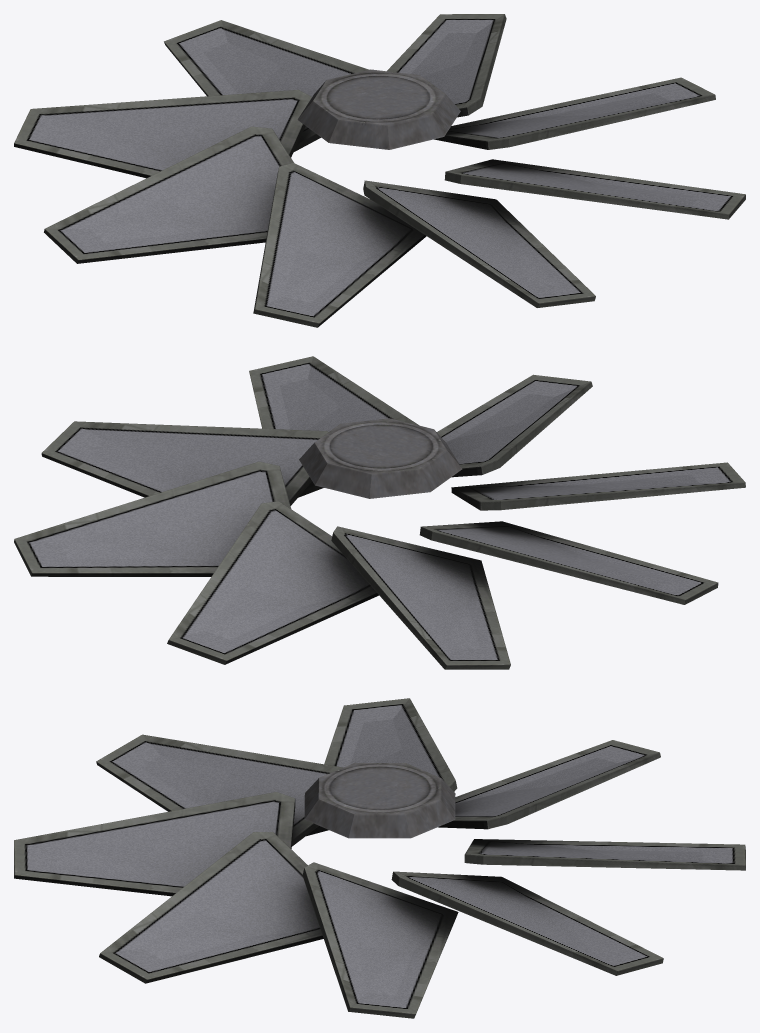
Rendered from OBJ_Fan_A.FBX.
3 views of the same model, one above another, from view 1: azimuth 30°, elevation 25°; view 2: azimuth 150°, elevation 25°; view 3: azimuth 270°, elevation 25° (orthographic).
Visible parts, largest first — view 1: OBJ_Fan_A; view 2: OBJ_Fan_A; view 3: OBJ_Fan_A.
Boxes of the visible parts, left/top/right/bottom form: OBJ_Fan_A: left=14, top=14, right=745, bottom=327; OBJ_Fan_A: left=14, top=356, right=745, bottom=669; OBJ_Fan_A: left=14, top=698, right=745, bottom=1018.
Size of the model in its own units: 3.74 by 0.4944 by 3.74.
Materials: 1 (1 with a texture image).
